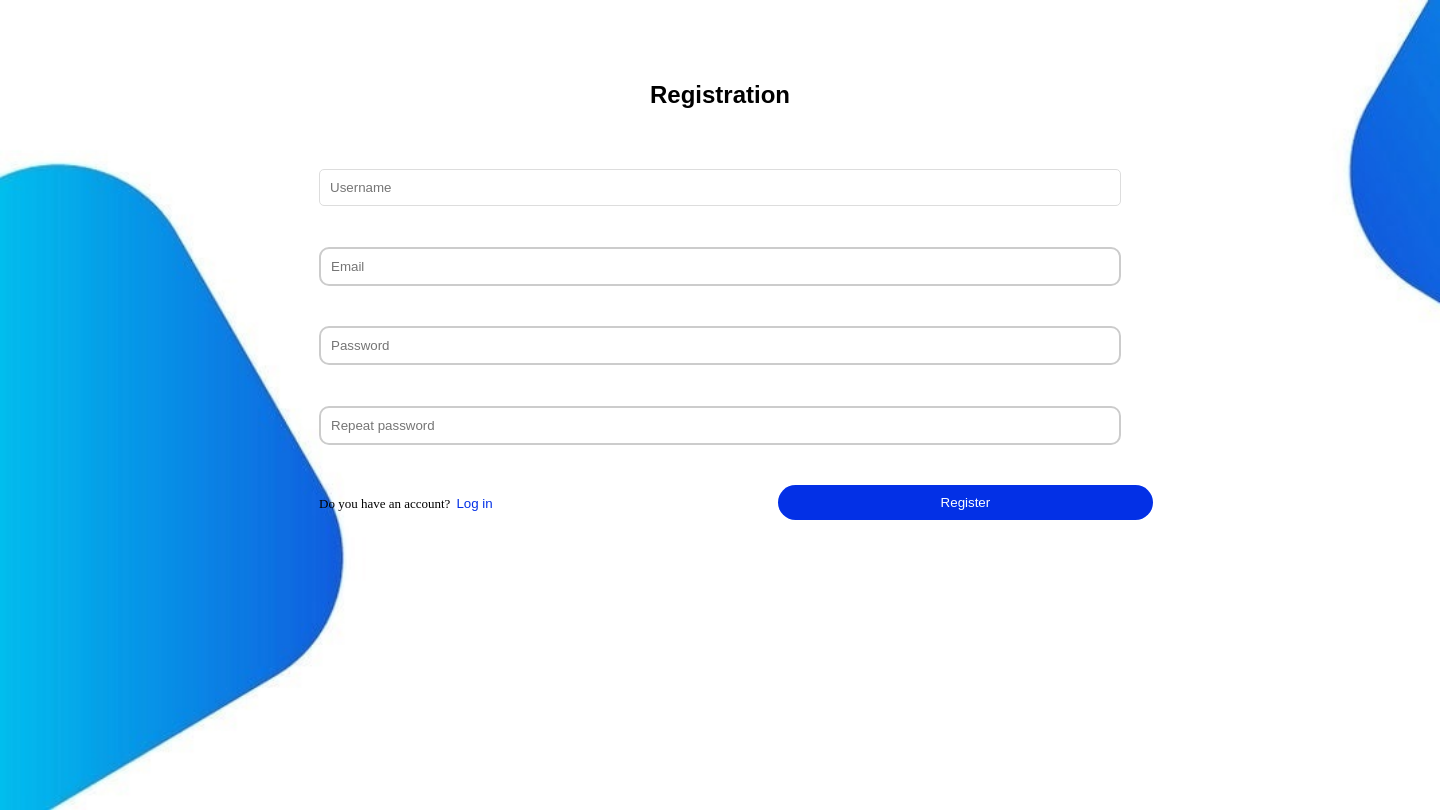
Registration › shows validation errors for mismatched passwords
The width and height of the screenshot is (1440, 810).
Type "password123" into the password field with placeholder "Password" at (720, 346), box [319,326,1121,365]
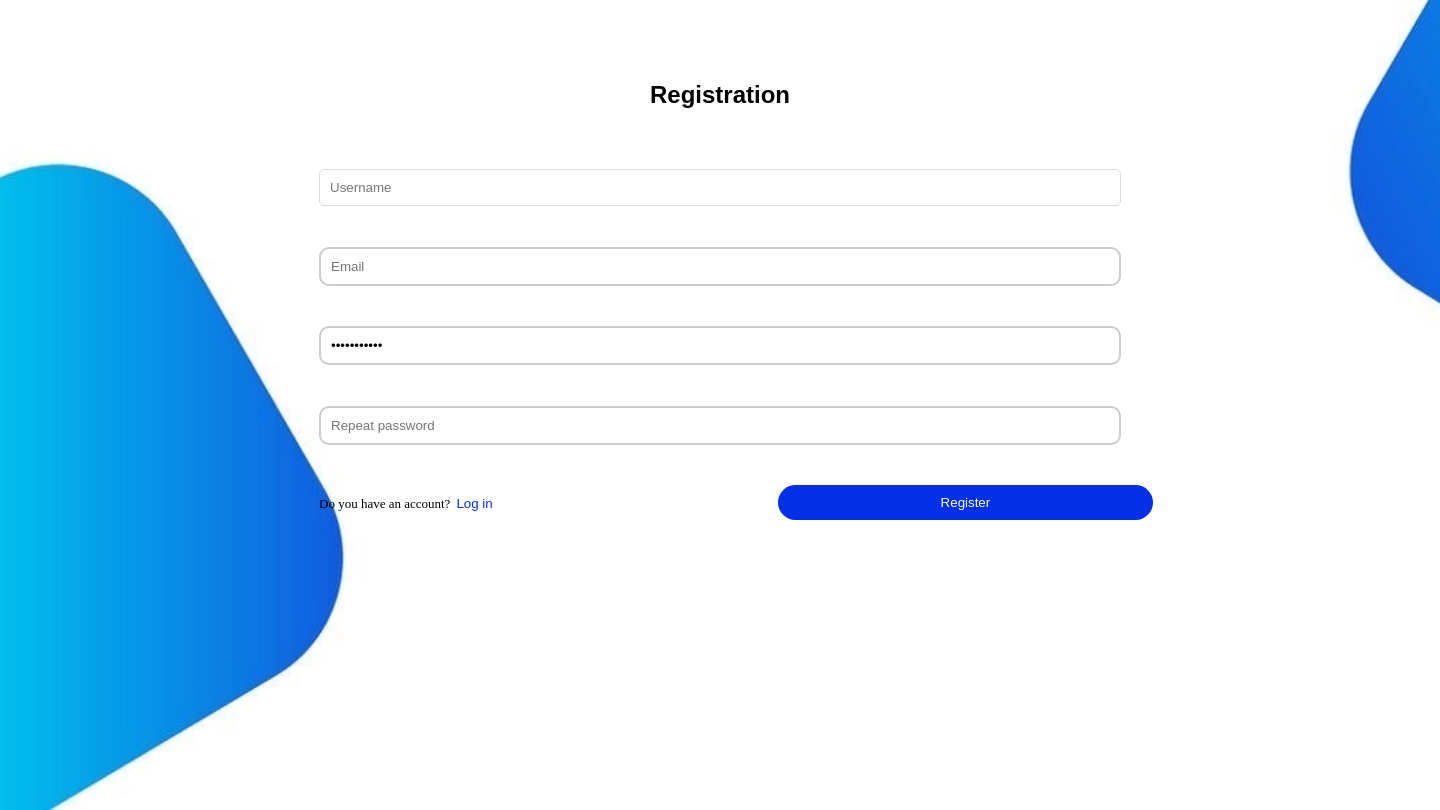
Type "differentpassword" into the password field with placeholder "Repeat password" at (720, 425), box [319,406,1121,445]
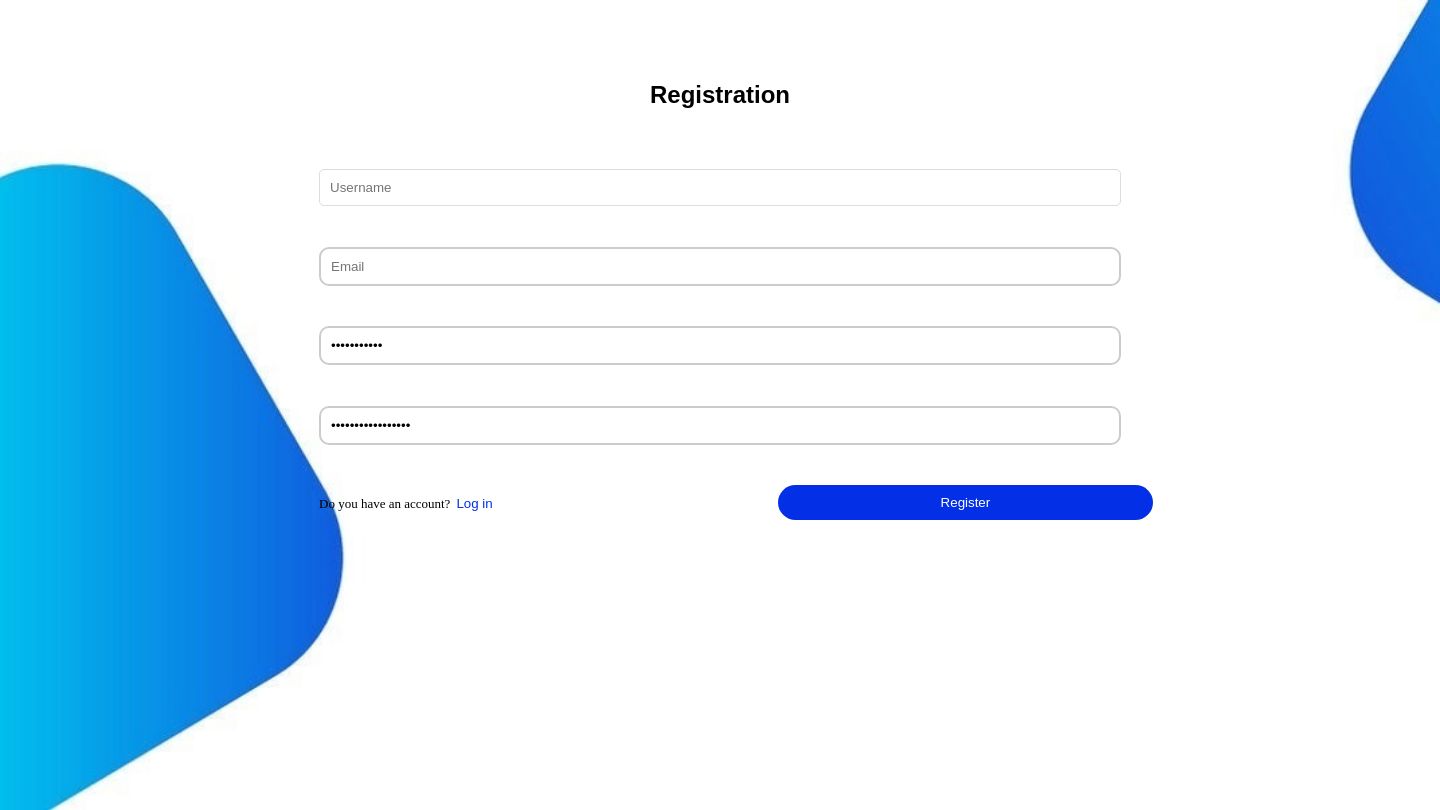
Click the button "Register" at (965, 503), box [778,485,1153,520]
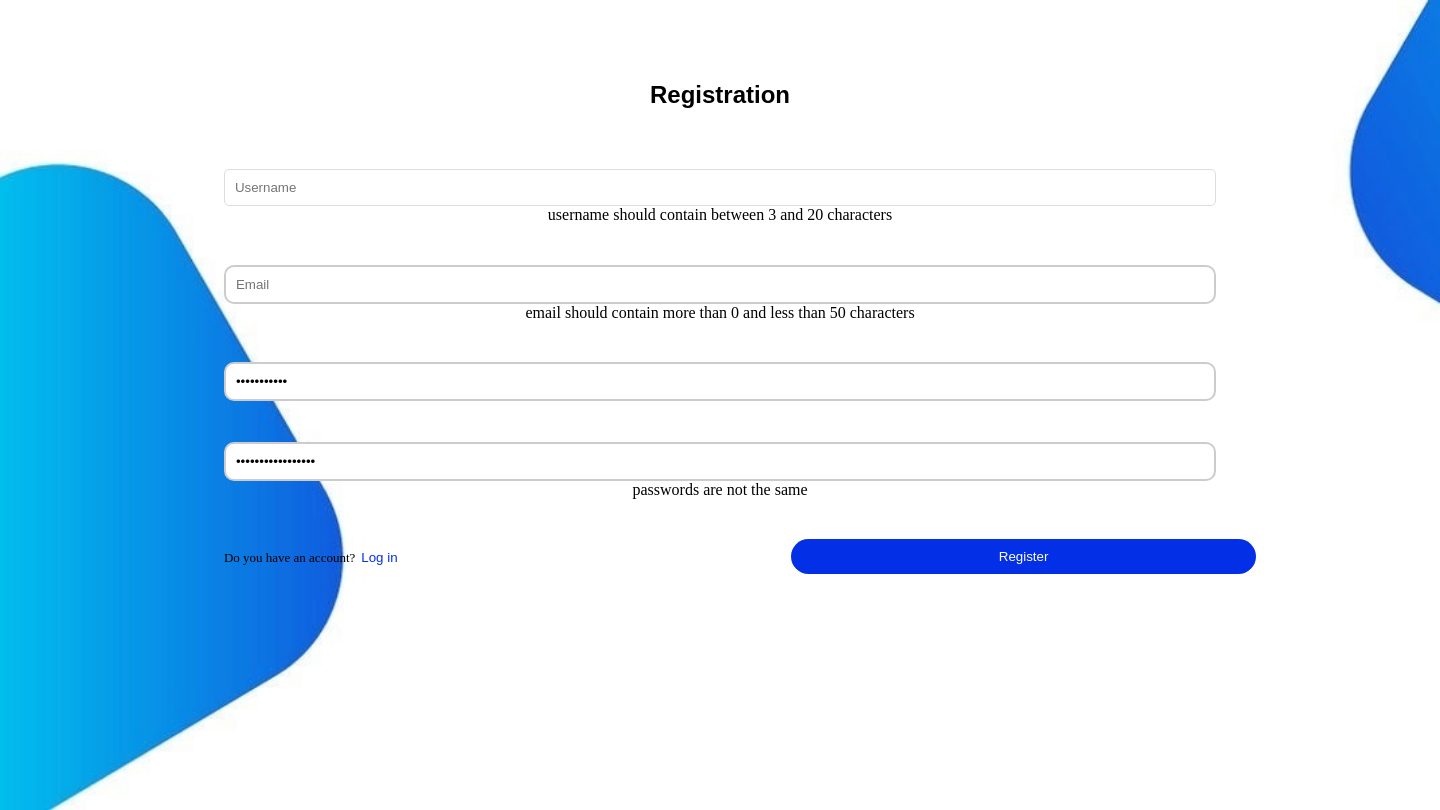
Check: the text "passwords are not the same" is shown, box [632,481,808,498]
